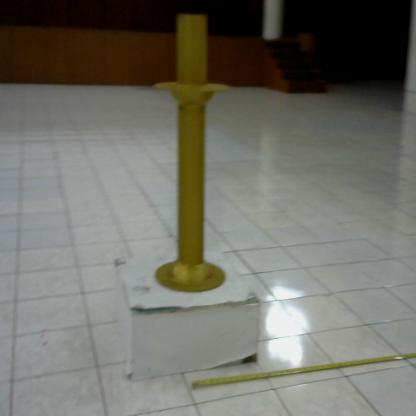pole: (149, 10, 235, 299)
